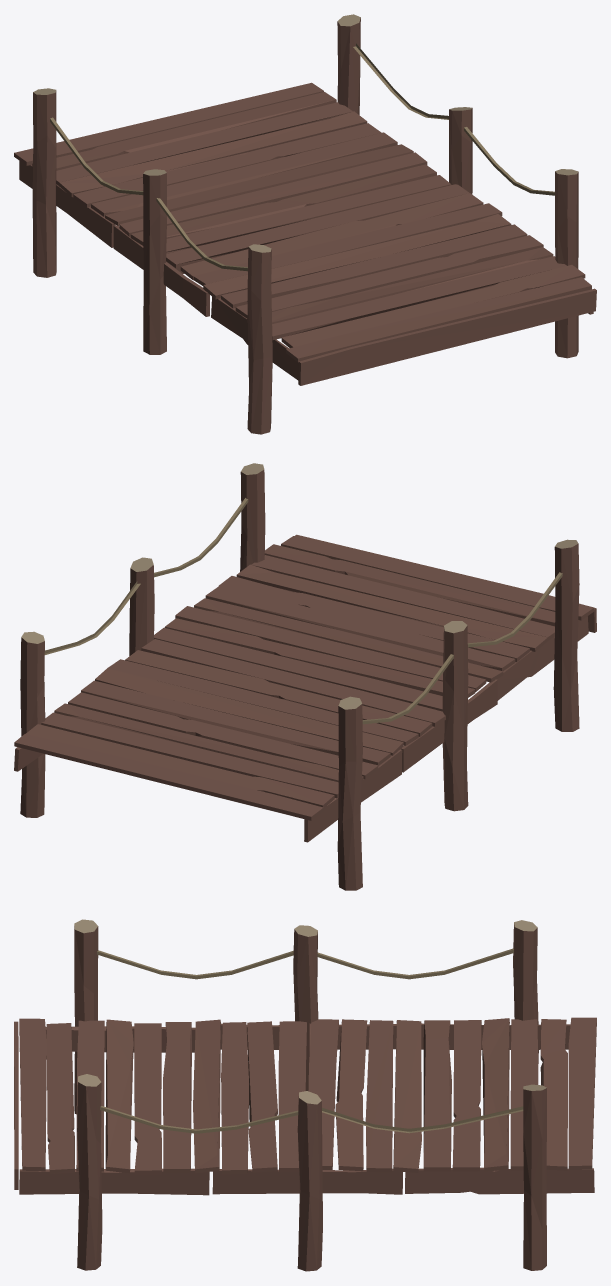
File: dock-wide.glb
3 views of the same model, one above another, from view 1: azimuth 30°, elevation 25°; view 2: azimuth 150°, elevation 25°; view 3: azimuth 270°, elevation 25° (orthographic). The views are drawn at different scales.
Parts seen in each view (by area): view 1: Dock_Wide; view 2: Dock_Wide; view 3: Dock_Wide.
Boxes of the visible parts, x1,y1,x2,y2 form: Dock_Wide: (14, 14, 596, 434); Dock_Wide: (14, 463, 596, 890); Dock_Wide: (14, 919, 596, 1271).
Size of the model in its own units: 14.63 by 7.68 by 21.68.
